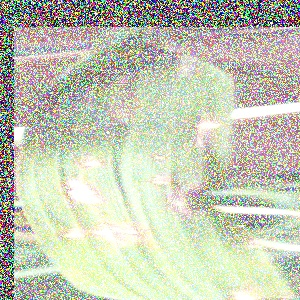Brown_Spot: (149, 179, 218, 228), (89, 213, 158, 256), (105, 92, 156, 141), (55, 170, 105, 215), (188, 105, 224, 155), (46, 209, 89, 248), (230, 226, 277, 260), (228, 276, 289, 300), (134, 167, 175, 200), (138, 137, 181, 168), (64, 149, 111, 174), (114, 63, 147, 98), (55, 114, 89, 144)
